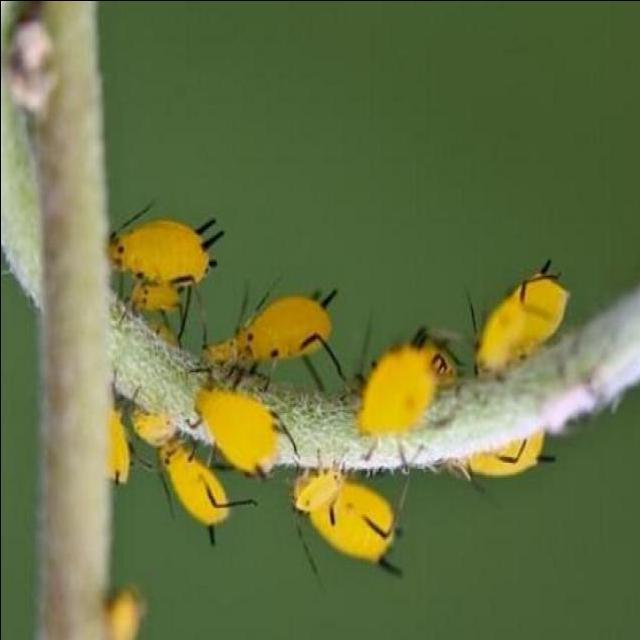aphid: (282, 446, 433, 578), (96, 184, 220, 323), (224, 273, 336, 414), (182, 370, 302, 483), (147, 433, 259, 548), (470, 256, 564, 376), (360, 324, 456, 439)
